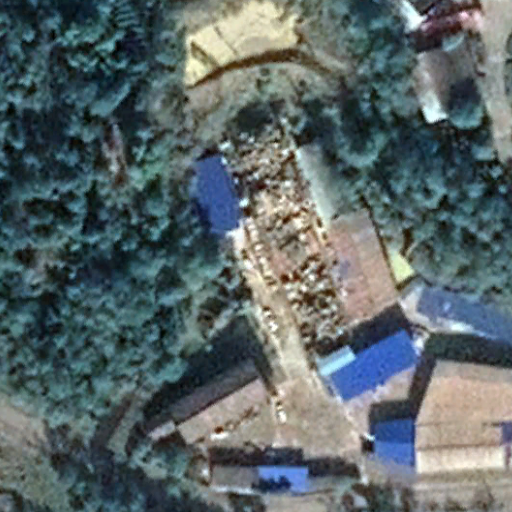msw: (224, 124, 351, 352)
